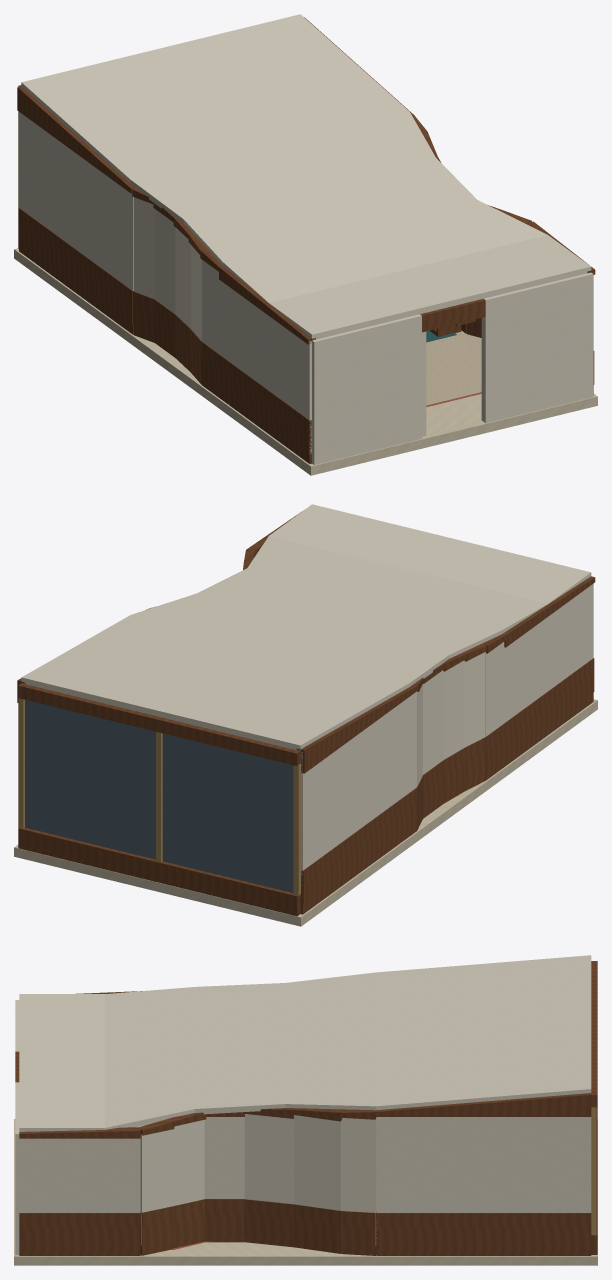
File: STAR_ATLAS_ROOM_06_r001.glb
3 renders of one model, top to bottom at view 1: azimuth 30°, elevation 25°; view 2: azimuth 150°, elevation 25°; view 3: azimuth 270°, elevation 25°, orthographic.
Parts seen in each view (by area): view 1: STAR_ATLASRoomBatch_2, STAR_ATLASRoomBatch_1, STAR_ATLASRoomBatch_0, STAR_ATLASRoomBatch_3; view 2: STAR_ATLASRoomBatch_2, STAR_ATLASRoomBatch_6, STAR_ATLASRoomBatch_1, STAR_ATLASRoomBatch_0, STAR_ATLASRoomBatch_5; view 3: STAR_ATLASRoomBatch_2, STAR_ATLASRoomBatch_1, STAR_ATLASRoomBatch_0, STAR_ATLASRoomBatch_5.
Part boxes in pixels (x1,y1,x2,y2): STAR_ATLASRoomBatch_2: (19,14,593,464); STAR_ATLASRoomBatch_1: (17,17,595,463); STAR_ATLASRoomBatch_0: (14,248,597,475); STAR_ATLASRoomBatch_3: (426,330,481,405); STAR_ATLASRoomBatch_2: (21,504,593,885); STAR_ATLASRoomBatch_6: (25,700,293,892); STAR_ATLASRoomBatch_1: (17,511,595,916); STAR_ATLASRoomBatch_0: (14,699,597,926); STAR_ATLASRoomBatch_5: (18,698,300,895); STAR_ATLASRoomBatch_2: (15,955,591,1254); STAR_ATLASRoomBatch_1: (15,961,597,1255); STAR_ATLASRoomBatch_0: (14,1119,597,1265); STAR_ATLASRoomBatch_5: (591,1107,596,1235).
Bounding box in the file's own units: 7.2 × 4.26 × 12.9.
Materials: 64 (57 with a texture image).
